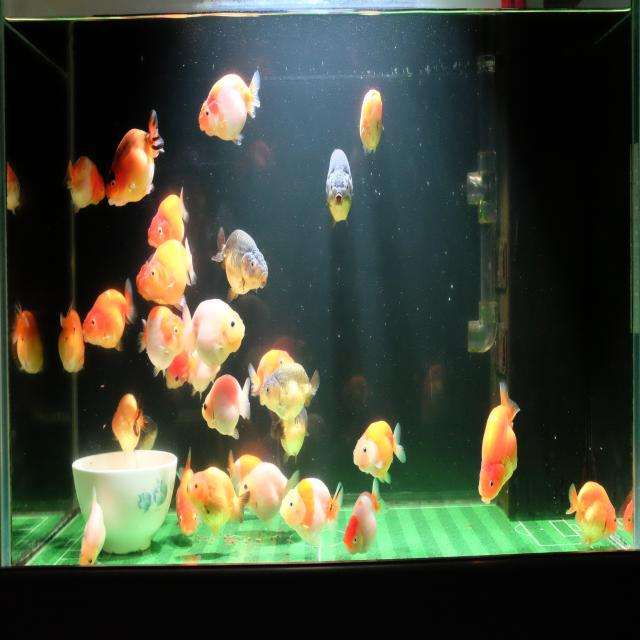Tilapia: (105, 106, 167, 210), (476, 379, 521, 511), (180, 297, 246, 378), (278, 474, 344, 552), (184, 464, 250, 542), (198, 68, 262, 148), (210, 224, 270, 304), (236, 464, 304, 534), (82, 276, 138, 355), (258, 362, 320, 430), (562, 478, 618, 551), (352, 416, 406, 486), (342, 479, 388, 559), (143, 238, 195, 308), (269, 395, 310, 468), (146, 184, 192, 248), (324, 143, 355, 235), (12, 300, 46, 380), (108, 389, 146, 459), (77, 484, 109, 566), (64, 154, 106, 215), (249, 347, 296, 401), (175, 448, 201, 540), (222, 444, 267, 497), (357, 80, 386, 158), (56, 300, 85, 375), (135, 250, 171, 304), (134, 411, 160, 454)
